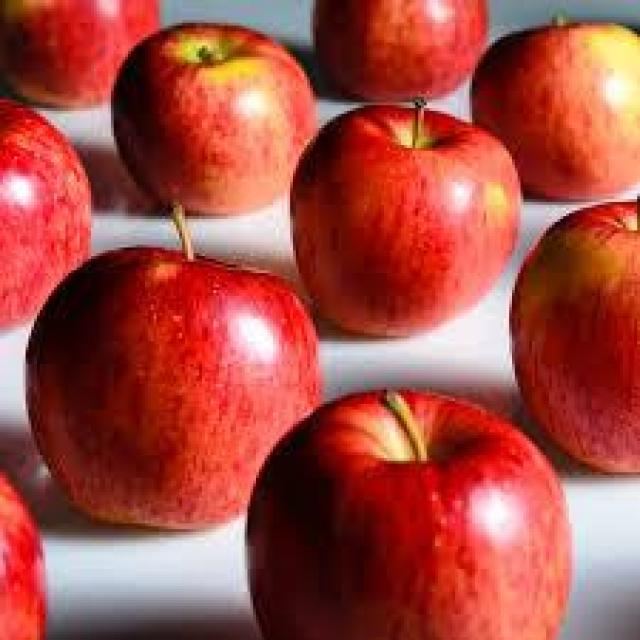apple: (26, 259, 327, 520), (253, 404, 580, 631), (290, 114, 509, 330), (106, 26, 324, 216), (498, 205, 637, 458), (481, 17, 637, 193), (3, 3, 162, 119)
